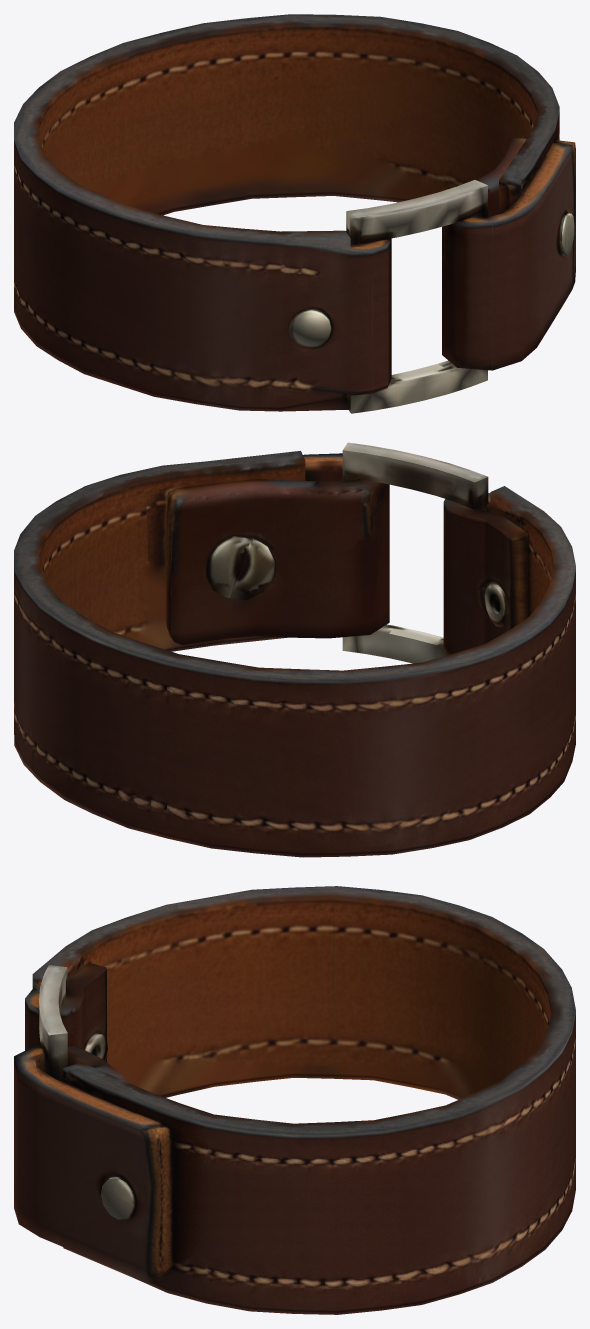
File: belt.glb
The picture shows the model from 3 angles, top to bottom: view 1: azimuth 30°, elevation 25°; view 2: azimuth 150°, elevation 25°; view 3: azimuth 270°, elevation 25°; orthographic projection. The views are drawn at different scales.
Visible parts, largest first — view 1: polySurface17; view 2: polySurface17; view 3: polySurface17.
Boxes of the visible parts, x1=… form: polySurface17: x1=14, y1=14, x2=575, y2=413; polySurface17: x1=14, y1=442, x2=575, y2=857; polySurface17: x1=14, y1=886, x2=575, y2=1314.
Size of the model in its own units: 1 by 0.3873 by 0.9617.
Materials: 1 (1 with a texture image).
